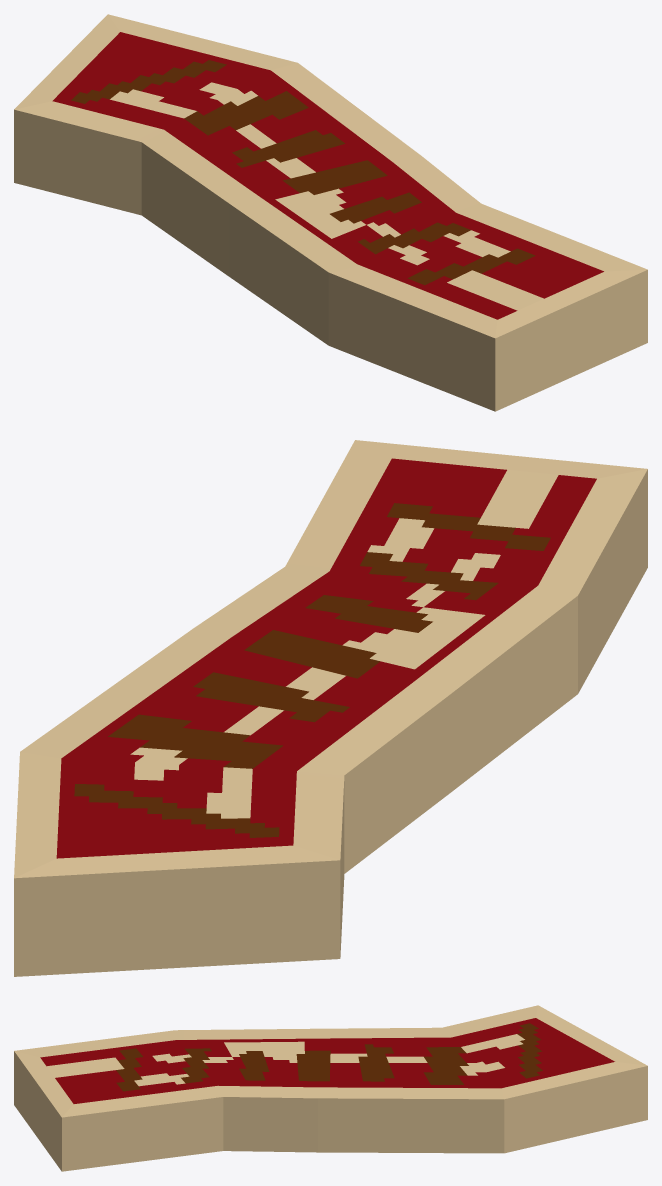
File: meat_cooked._cut.fbx
3 views of the same model, one above another, from view 1: azimuth 30°, elevation 25°; view 2: azimuth 150°, elevation 25°; view 3: azimuth 270°, elevation 25° (orthographic). The views are drawn at different scales.
Parts seen in each view (by area): view 1: Cube; view 2: Cube; view 3: Cube.
Boxes of the visible parts, bbox=[...] form: Cube: bbox=[14, 14, 647, 411]; Cube: bbox=[14, 440, 647, 976]; Cube: bbox=[14, 1005, 647, 1171].
Bounding box in the file's own units: 194 × 44.59 × 463.
